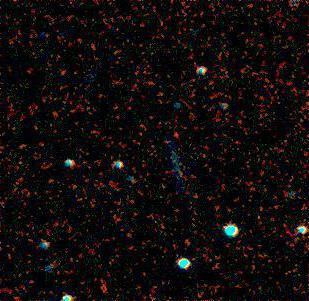star: (160, 122, 190, 152)
